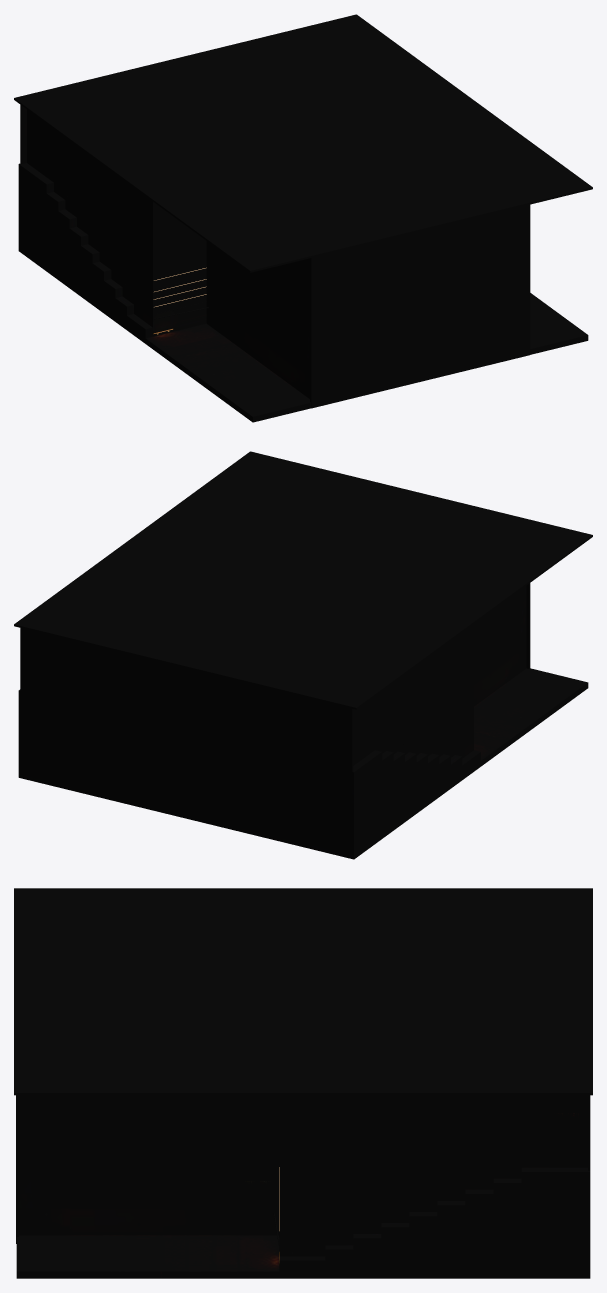
Rendered from hall5.glb.
3 views of the same model, one above another, from view 1: azimuth 30°, elevation 25°; view 2: azimuth 150°, elevation 25°; view 3: azimuth 270°, elevation 25° (orthographic). The views are drawn at different scales.
Visible parts, largest first — view 1: bake_room, bake_walls, bake_floor; view 2: bake_room, bake_floor, bake_walls; view 3: bake_room, bake_walls, bake_floor.
Boxes of the visible parts, <box> form: bake_room: <box>14,14,592,408</box>; bake_walls: <box>27,109,309,398</box>; bake_floor: <box>18,163,588,422</box>; bake_room: <box>14,451,592,858</box>; bake_floor: <box>18,668,588,859</box>; bake_walls: <box>353,586,526,765</box>; bake_room: <box>14,888,592,1243</box>; bake_walls: <box>19,1095,587,1256</box>; bake_floor: <box>16,1167,590,1278</box>.
Size of the model in its own units: 19 by 8.12 by 22.7.
11 materials, 3 textured.
